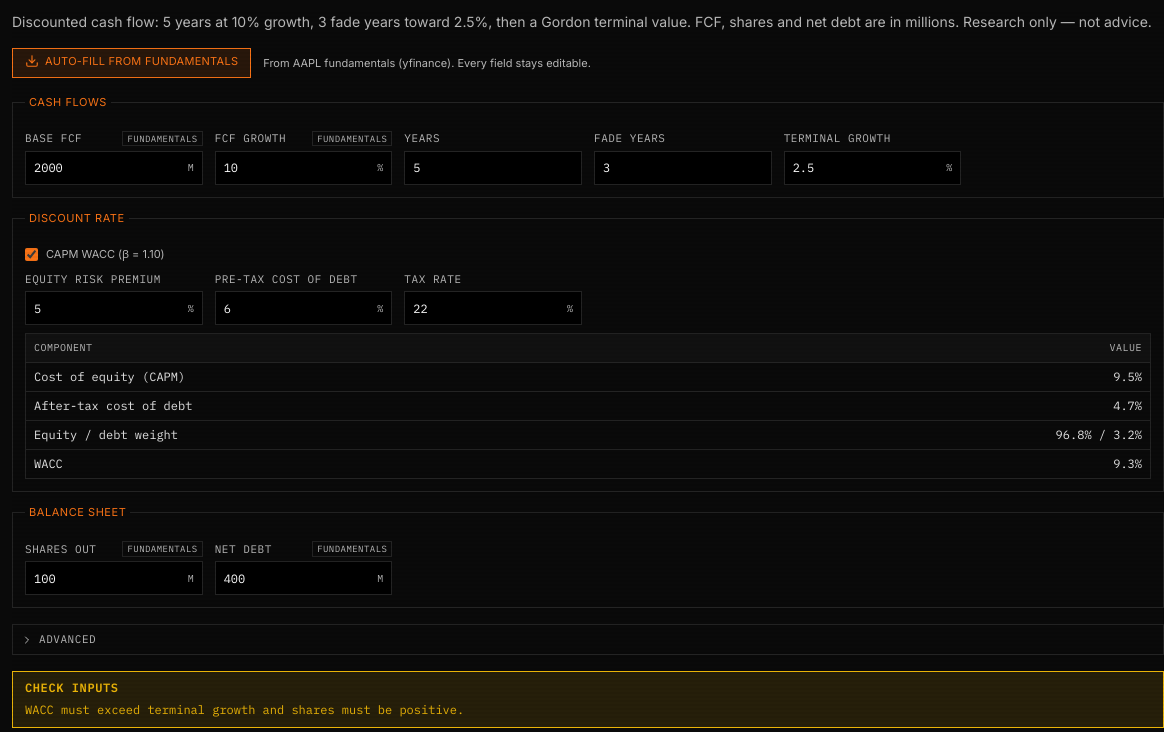
Test: ValuationSection › shows the WACC vs terminal growth error on the field
The width and height of the screenshot is (1164, 732).
Replace the text in the number field labelled "Terminal growth" with "9.9". click: point(866, 168)
box: [785,152,946,184]
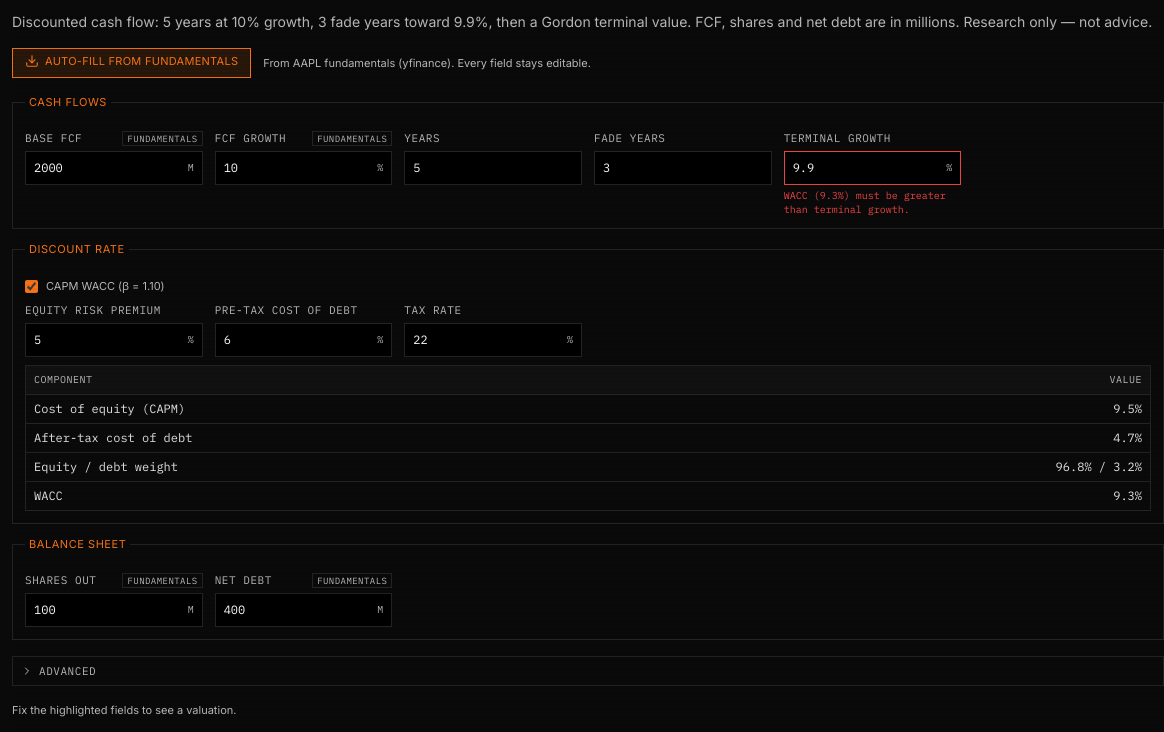
Expected: the text "WACC (9.3%) must be greater than terminal growth." is shown, [784,189,961,216]
Expected: the text "Check inputs" is gone
Expected: the text "Fix the highlighted fields to see a valuation." is shown, [12,703,236,717]
